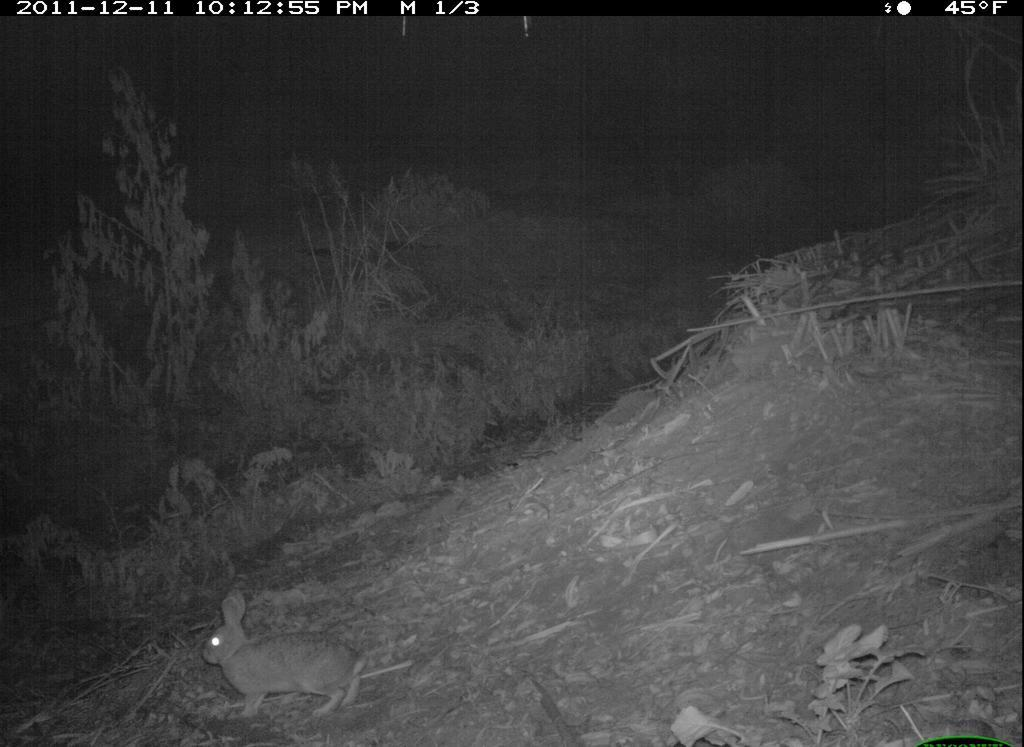rabbit: (197, 594, 395, 717)
